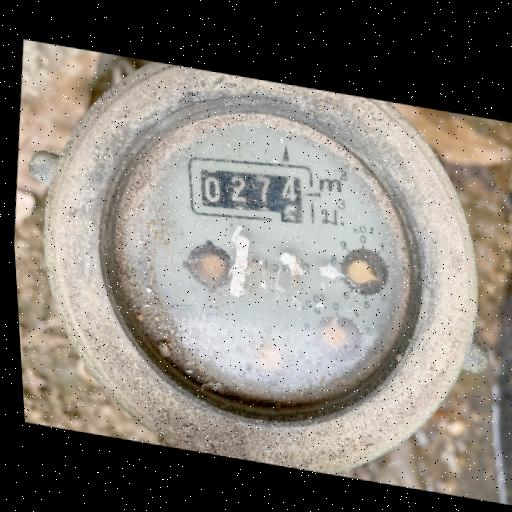0: (196, 166, 231, 211)
2: (221, 169, 255, 212)
4: (274, 172, 309, 228)
7: (245, 171, 285, 216)
border_water_meter_number: (181, 145, 323, 237)
